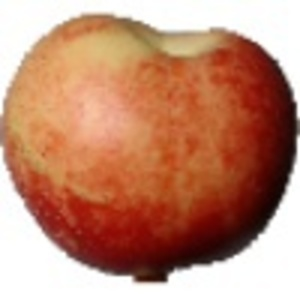nectarina: (1, 1, 300, 287)
